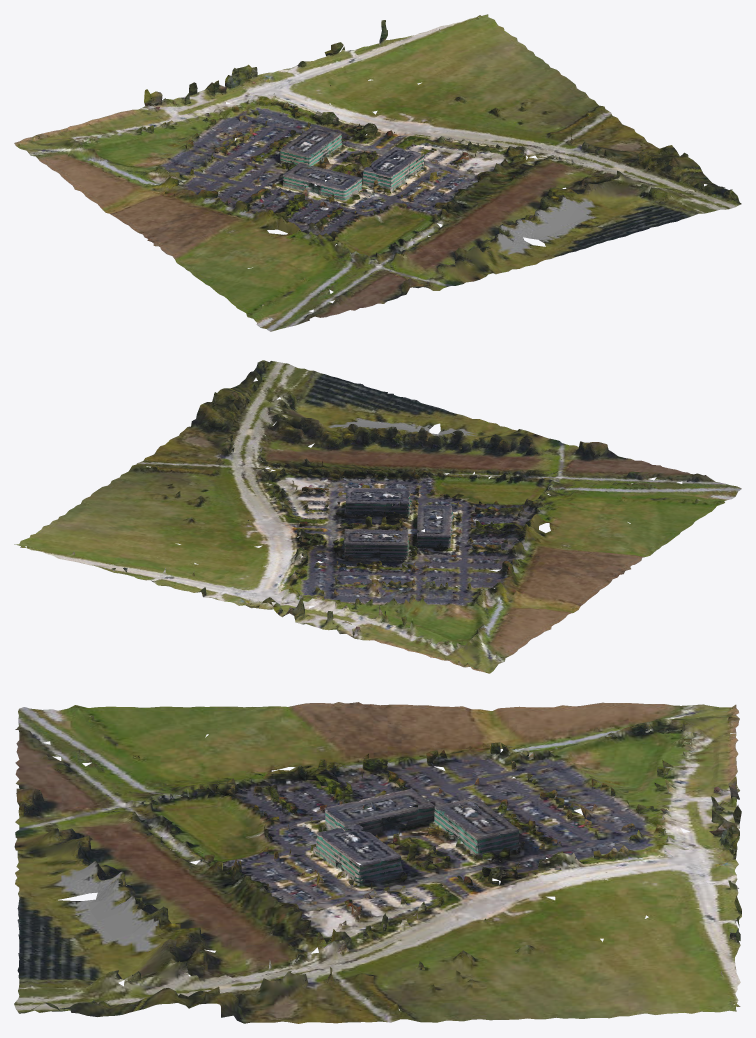
The model's file is extracted_model.glb.
The picture shows the model from 3 angles, top to bottom: view 1: azimuth 30°, elevation 25°; view 2: azimuth 150°, elevation 25°; view 3: azimuth 270°, elevation 25°; orthographic projection. The views are drawn at different scales.
Bounding box in the file's own units: 565 × 39.81 × 531.
Materials: 1 (1 with a texture image).
